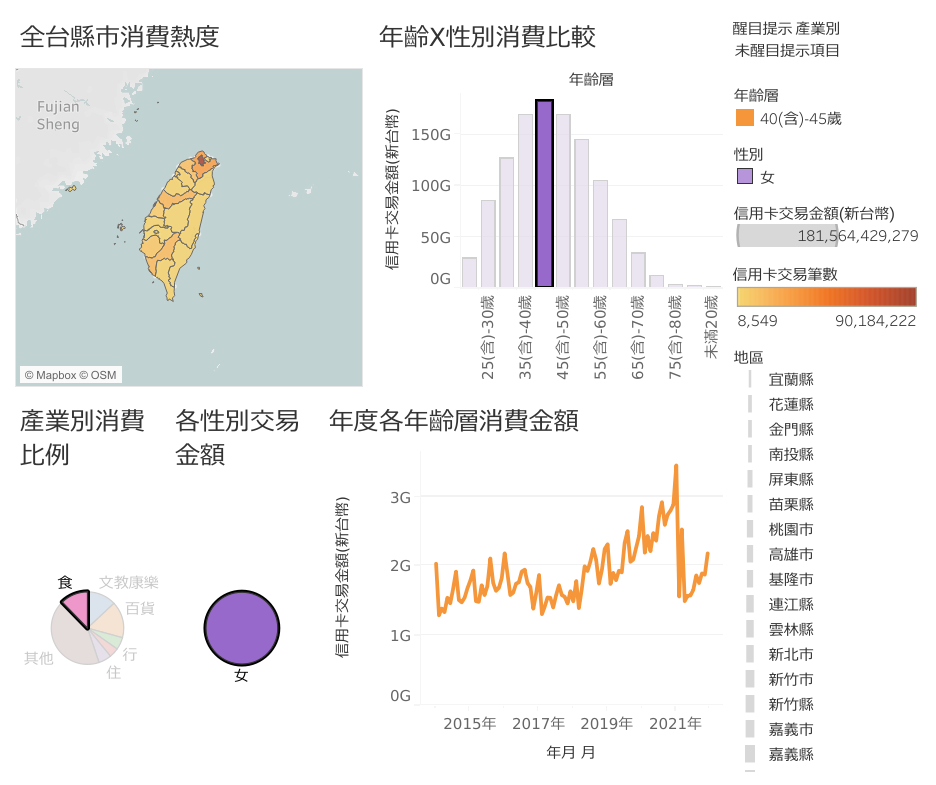

Layout of this report page (visuals, bound fields, positions):
{"tool":"tableau","page":{"name":"儀表板窗格 1","canvas":[1000,1000],"units":"permille","ordinal":0},"visuals":[{"type":"worksheet","title":"全台縣市消費熱度","mark":"Multipolygon","box":[4.8,9.4,446.9,490.6]},{"type":"worksheet","title":"年齡X性別消費比較","mark":"Automatic","rows":["信用卡交易金額(新台幣)"],"cols":["年齡層"],"box":[451.7,9.4,446.9,490.6]},{"type":"highlighter","title":"產業別消費比例","param":"[federated.0g2oetc1v2s88r16os5ns0wi0wuw].[none:產業別:nk]","box":[898.6,9.4,96.6,65.7]},{"type":"legend","title":"年度各年齡層消費金額","param":"[federated.0g2oetc1v2s88r16os5ns0wi0wuw].[none:年齡層:nk]","box":[898.6,75.1,96.6,342.7]},{"type":"legend","title":"年齡X性別消費比較","param":"[federated.0g2oetc1v2s88r16os5ns0wi0wuw].[none:性別:nk]","box":[898.6,417.8,96.6,84.5]},{"type":"worksheet","title":"產業別消費比例","mark":"Pie","box":[4.8,500,192.8,490.6]},{"type":"worksheet","title":"各性別交易金額","mark":"Pie","box":[197.6,500,192.2,490.6]},{"type":"worksheet","title":"年度各年齡層消費金額","mark":"Automatic","rows":["信用卡交易金額(新台幣)"],"cols":["年月"],"box":[389.8,500,508.8,490.6]},{"type":"legend","title":"各性別交易金額","param":"[federated.0g2oetc1v2s88r16os5ns0wi0wuw].[sum:信用卡交易金額(新台幣):qk]","box":[898.6,502.4,96.6,59.9]},{"type":"legend","title":"全台縣市消費熱度","param":"[federated.0g2oetc1v2s88r16os5ns0wi0wuw].[sum:信用卡交易金額(新台幣):qk]","box":[898.6,562.2,96.6,85.7]},{"type":"legend","title":"全台縣市消費熱度","param":"[federated.0g2oetc1v2s88r16os5ns0wi0wuw].[none:地區:nk]","box":[898.6,647.9,96.6,342.7]}]}

Visuals, with their boxes on the dashboard's canvas, which has no fixed pixel size, in thousandths of its width and height (x1, y1, x2, y2). These are canvas units, not pixel positions in the 936x785 screenshot, which may show the page scaled, cropped or inside an application window:
"全台縣市消費熱度" worksheet (Multipolygon marks): locate(5, 9, 452, 500)
"年齡X性別消費比較" worksheet: locate(452, 9, 899, 500)
"產業別消費比例" highlighter: locate(899, 9, 995, 75)
"年度各年齡層消費金額" legend: locate(899, 75, 995, 418)
"年齡X性別消費比較" legend: locate(899, 418, 995, 502)
"產業別消費比例" worksheet (Pie marks): locate(5, 500, 198, 991)
"各性別交易金額" worksheet (Pie marks): locate(198, 500, 390, 991)
"年度各年齡層消費金額" worksheet: locate(390, 500, 899, 991)
"各性別交易金額" legend: locate(899, 502, 995, 562)
"全台縣市消費熱度" legend: locate(899, 562, 995, 648)
"全台縣市消費熱度" legend: locate(899, 648, 995, 991)
